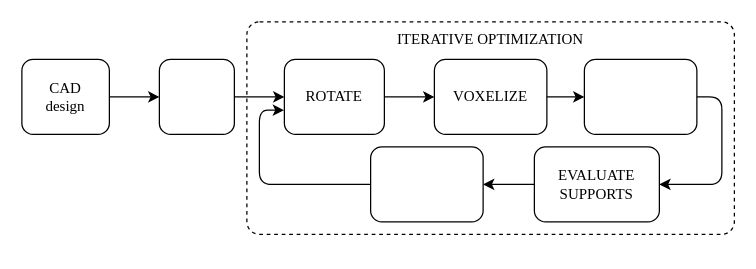
This 756x269 diagram has some shape labels left out. Each missing label, with the centre of its shape:
STL: (196,96)
SUGGEST ROTATION: (426,184)
SUPPORT GENERATE: (640,96)
